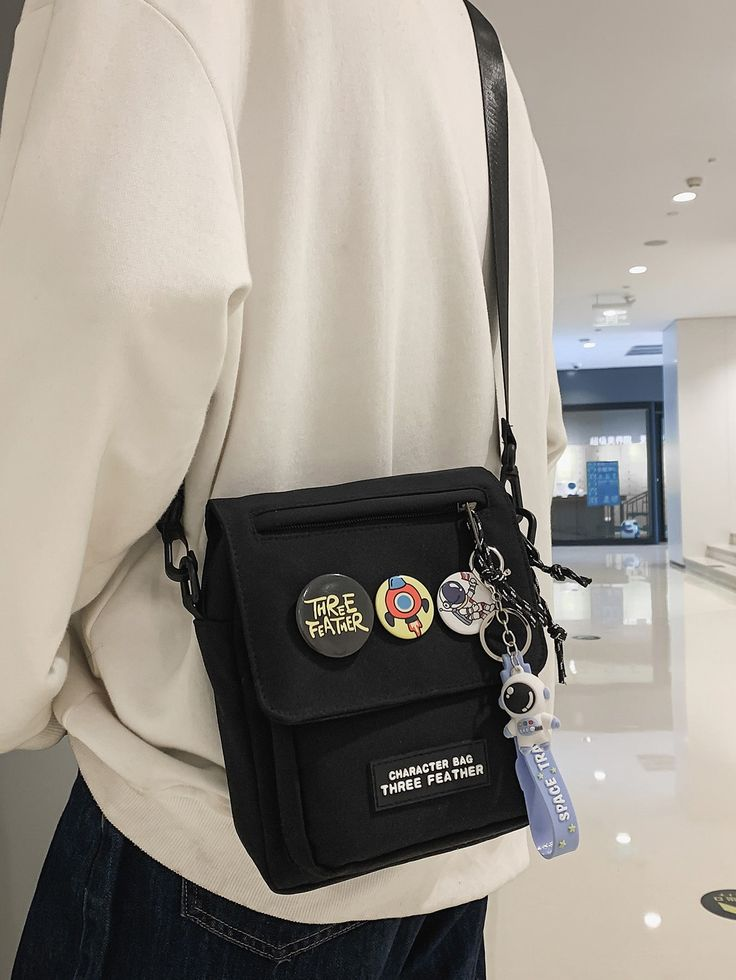nylon: (193, 466, 549, 894)
